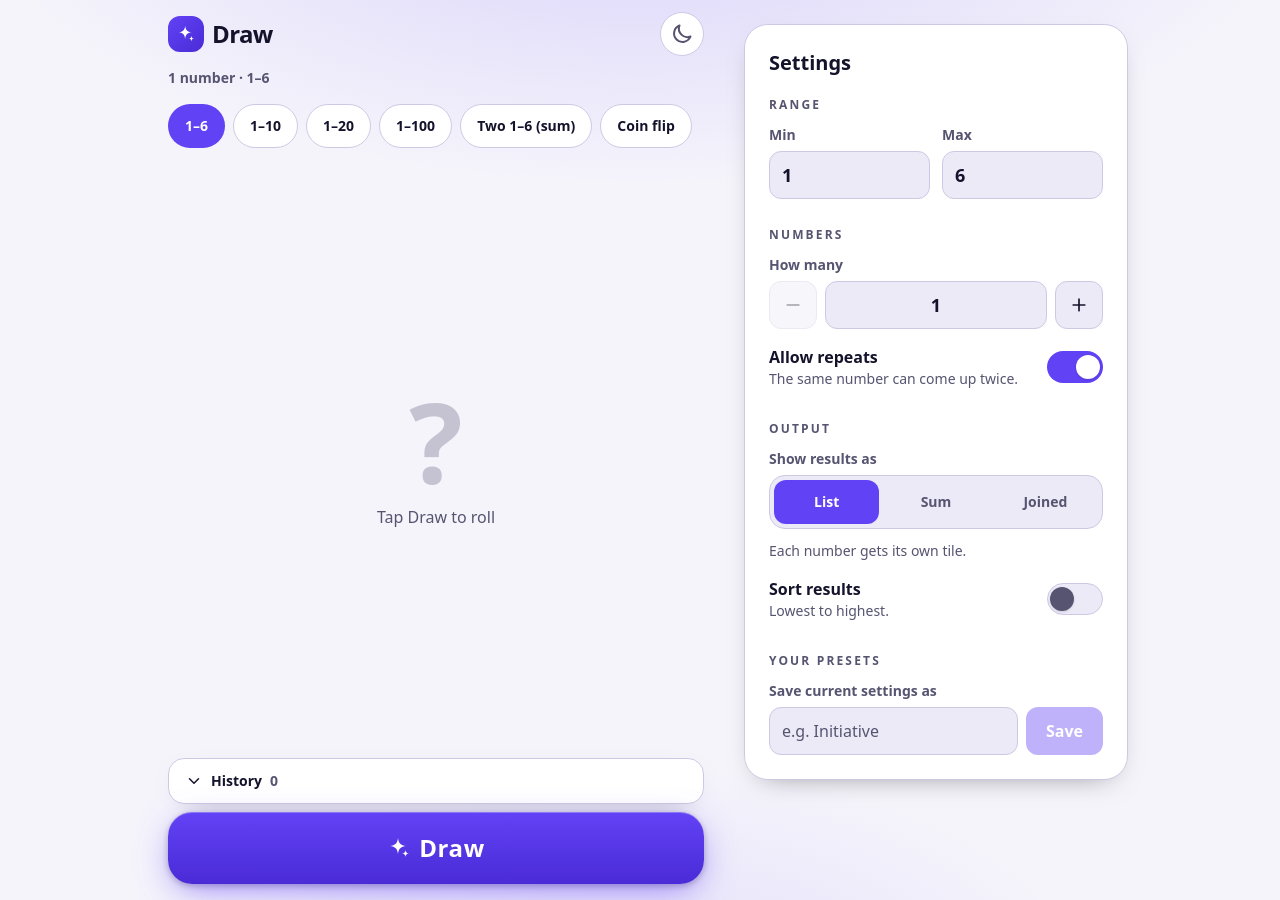
it: history › records draws, expands, and clears
Click the button "Draw" at (436, 848), box [168,812,704,884]
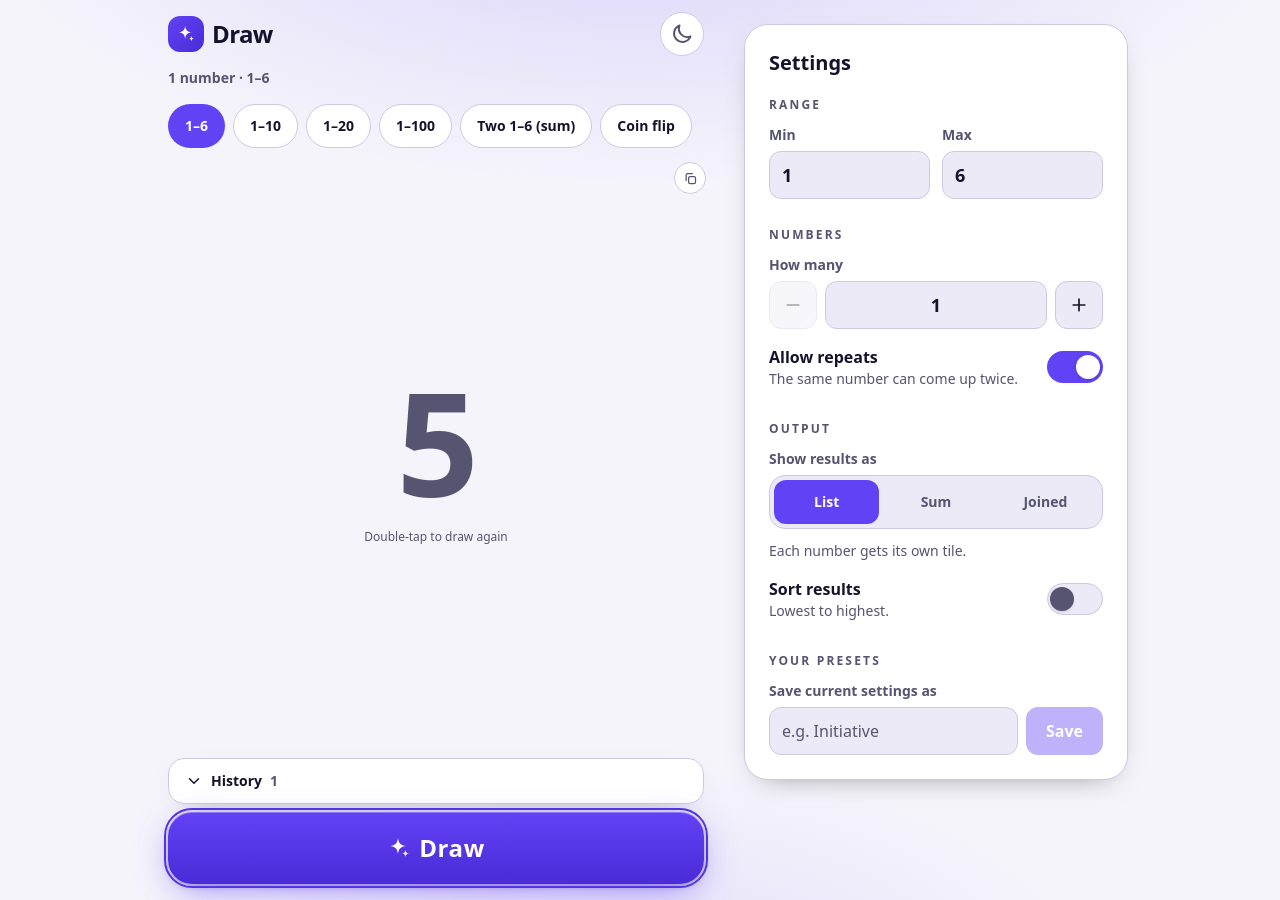
Click the button "Draw" at (436, 848), box [168,812,704,884]
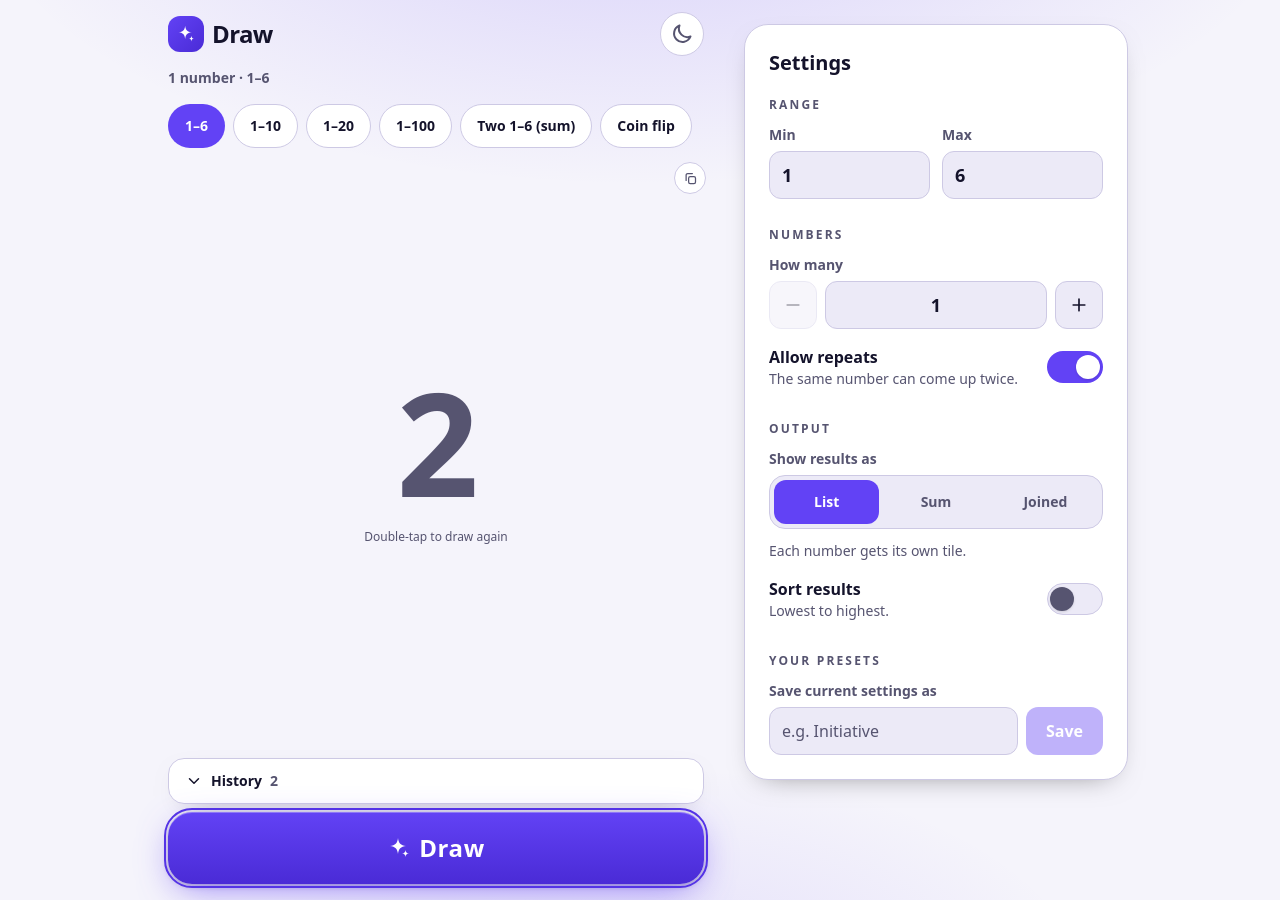
Click the button "History 2" at (237, 780), box [169,759,703,803]
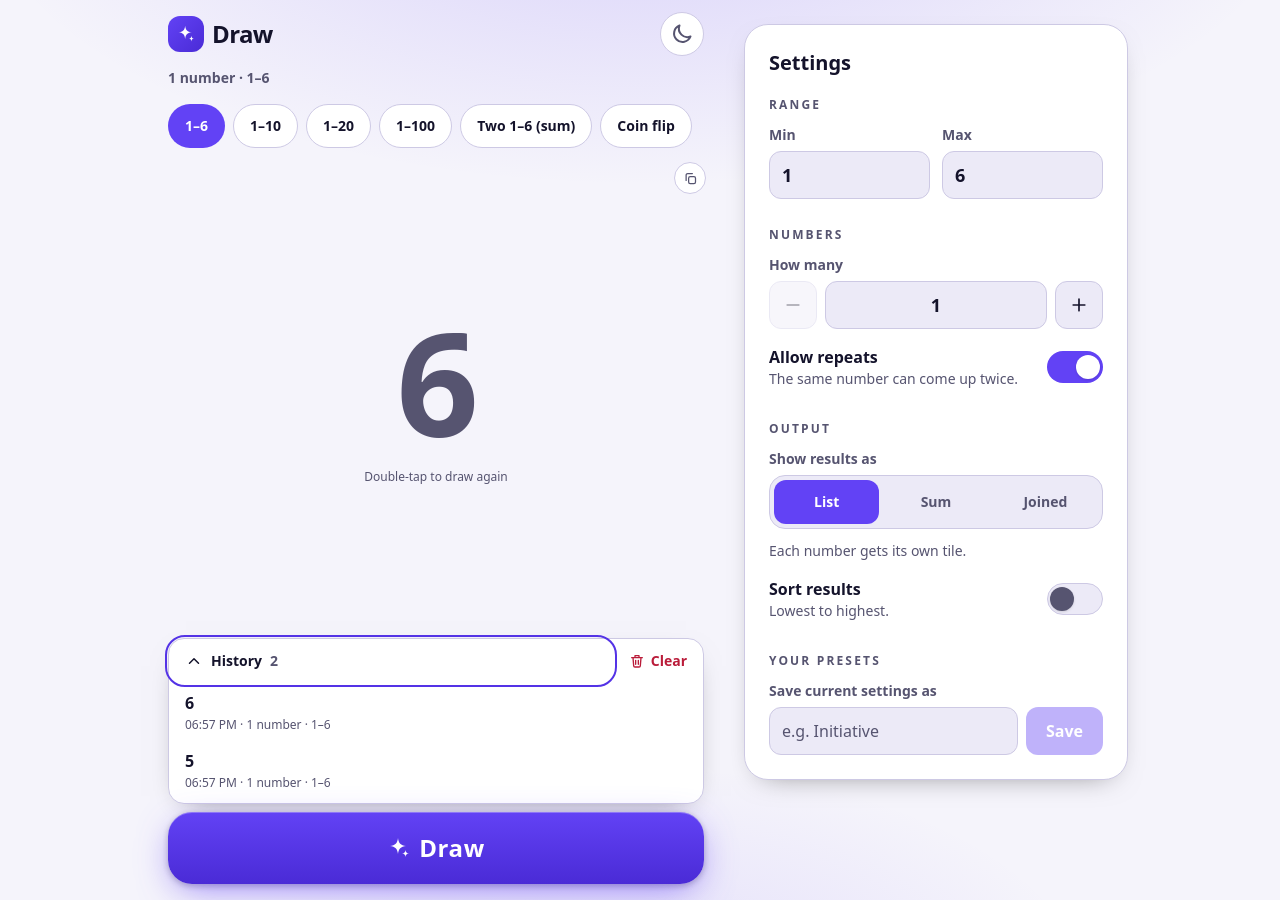
Check: the number of list items is 2, box [173,683,699,741]; [173,741,699,799]
Check: the text "06:57 PM · 1 number · 1–6" is shown 2 times, box [185,716,331,733]; [185,774,331,791]
Click the button "Clear" at (658, 661), box [613,639,703,683]
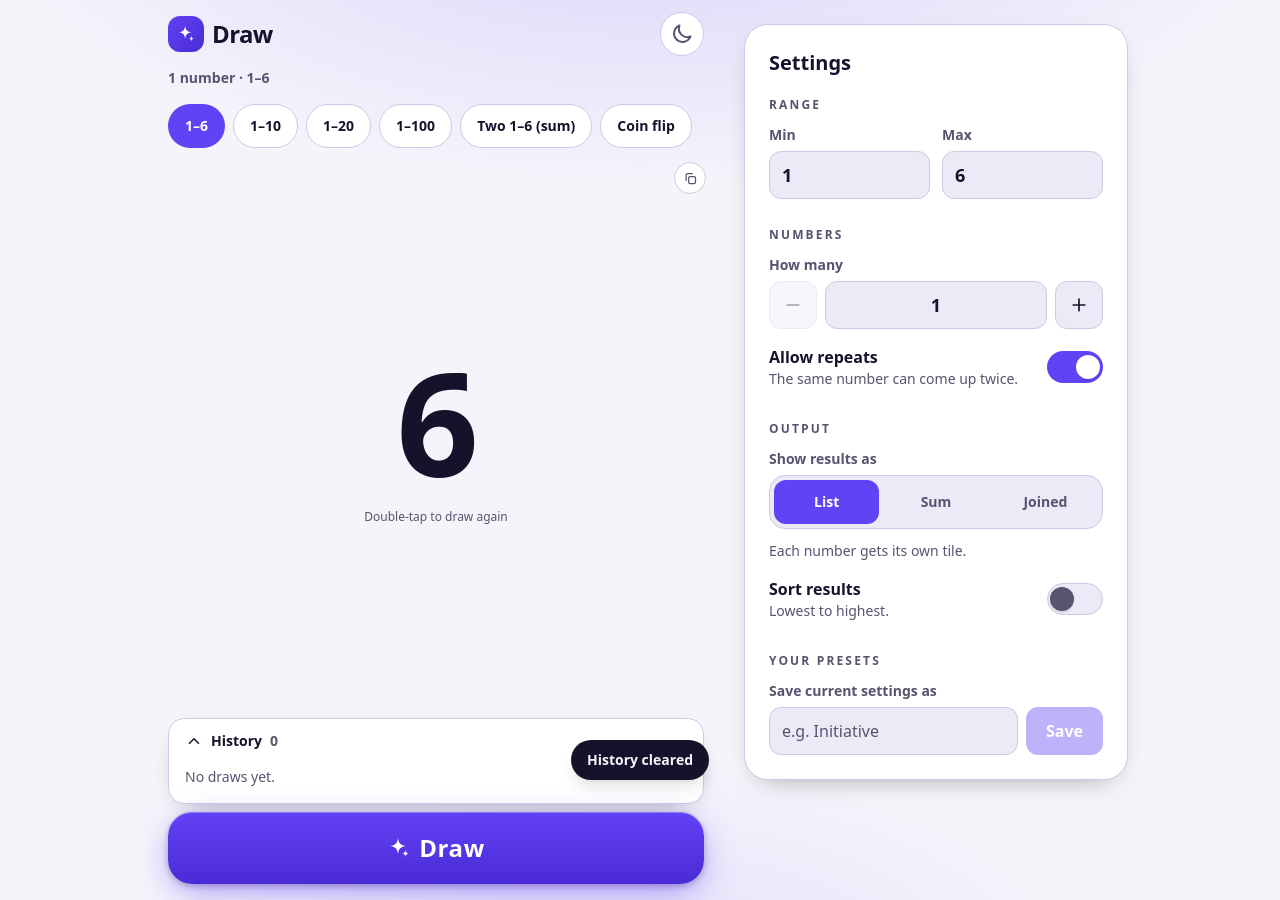
Check: the text "No draws yet." is shown, box [185,767,275,786]
